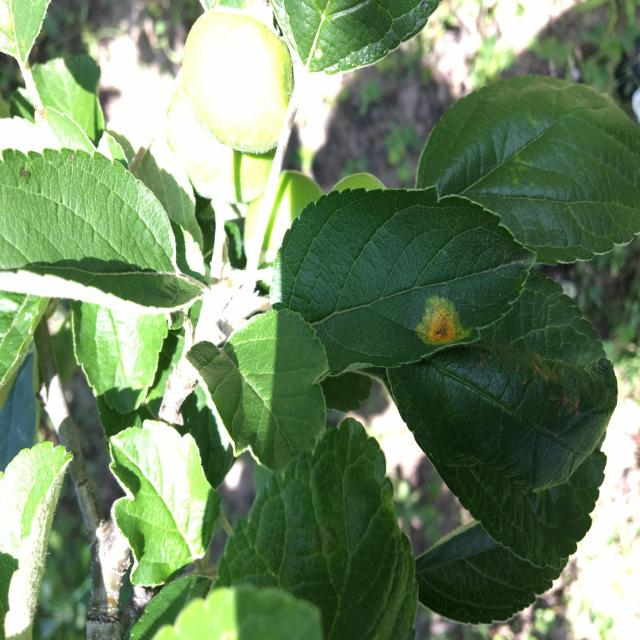Rust: (414, 288, 471, 351)
